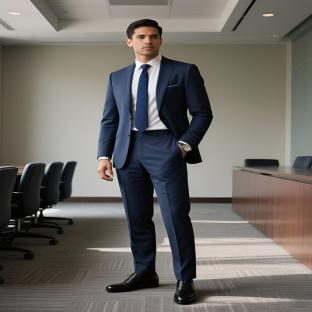Human: (98, 19, 212, 304)
